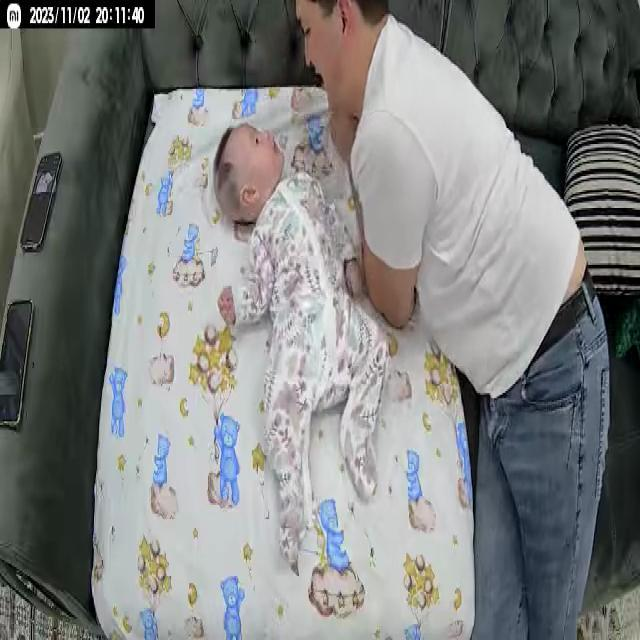baby: (208, 117, 396, 572)
